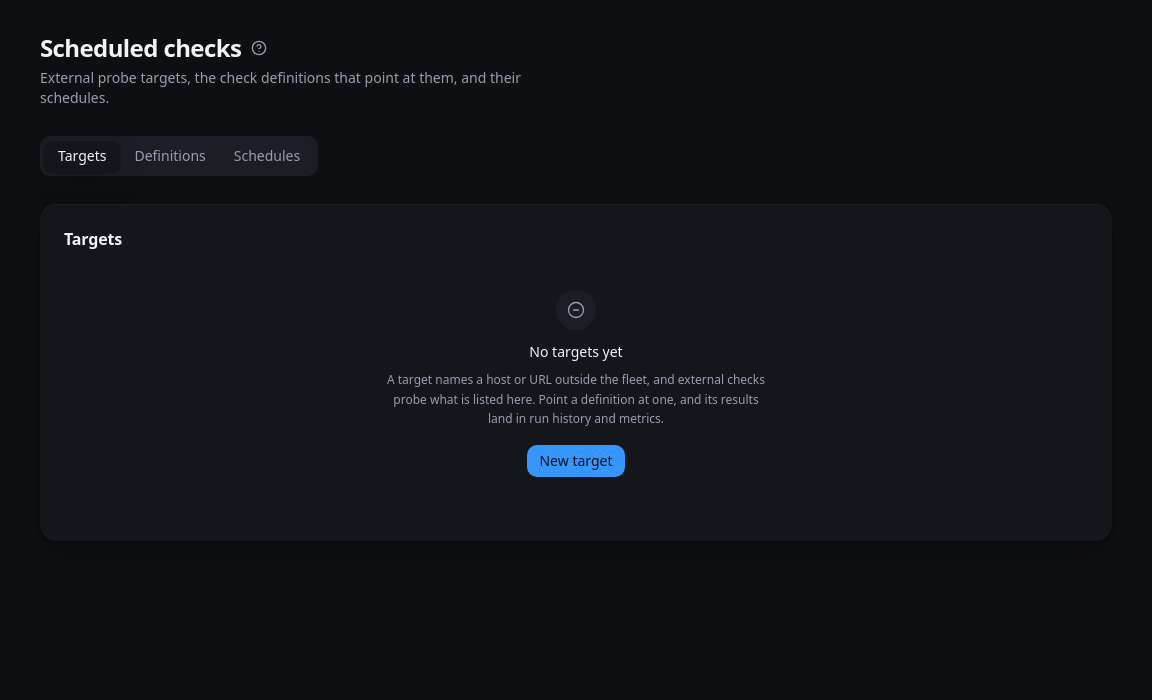
Test: TargetsPage — required fields are refused in the page's own words › refuses a target with no name without a request
Click the button "New target": (576, 461) [528,445,624,477]
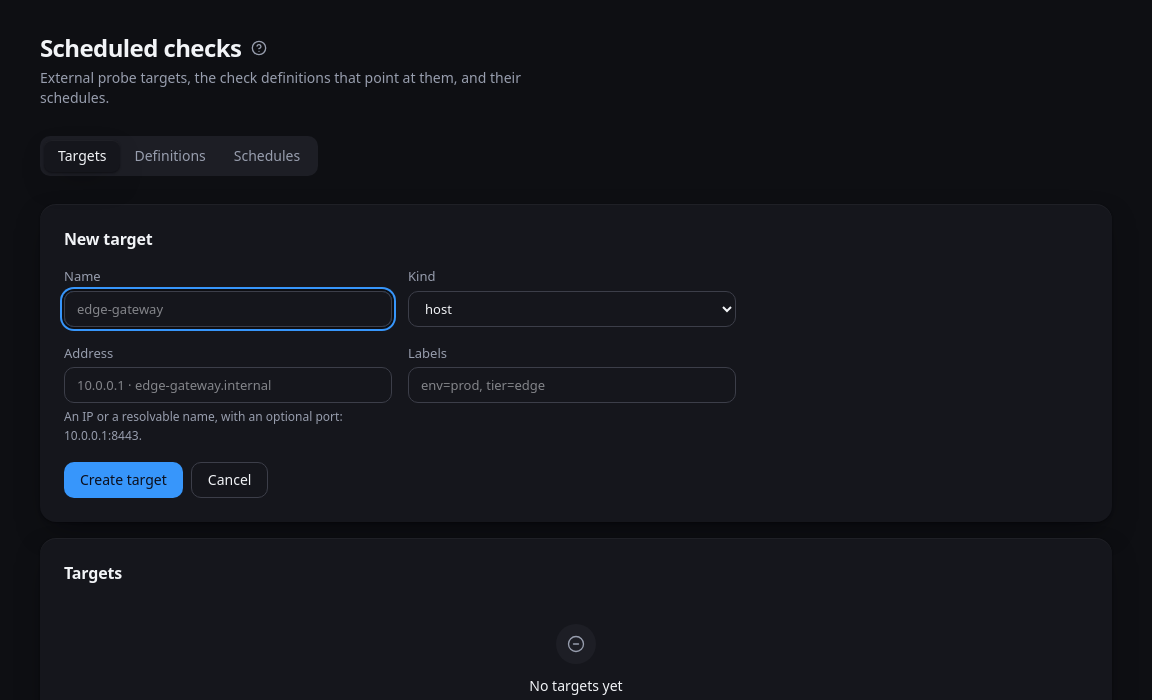
In the field labelled "Address": (228, 385) [64,367,392,403], type "10.0.0.9"
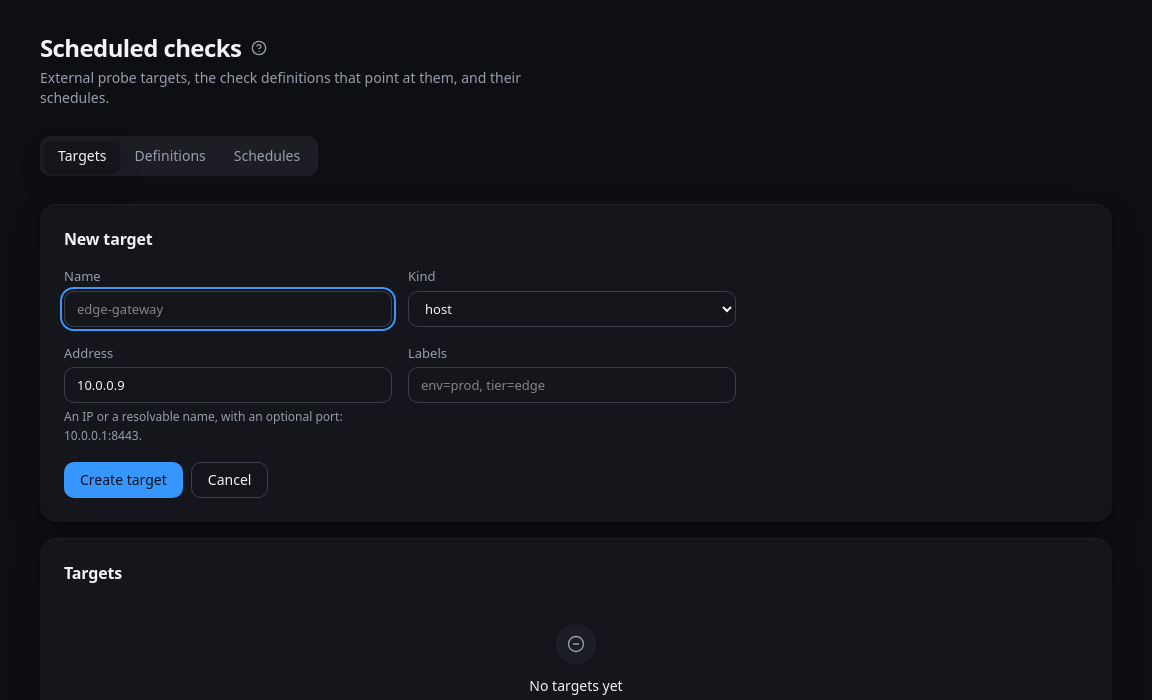
Click the button "Create target": (123, 480) [64,462,183,498]
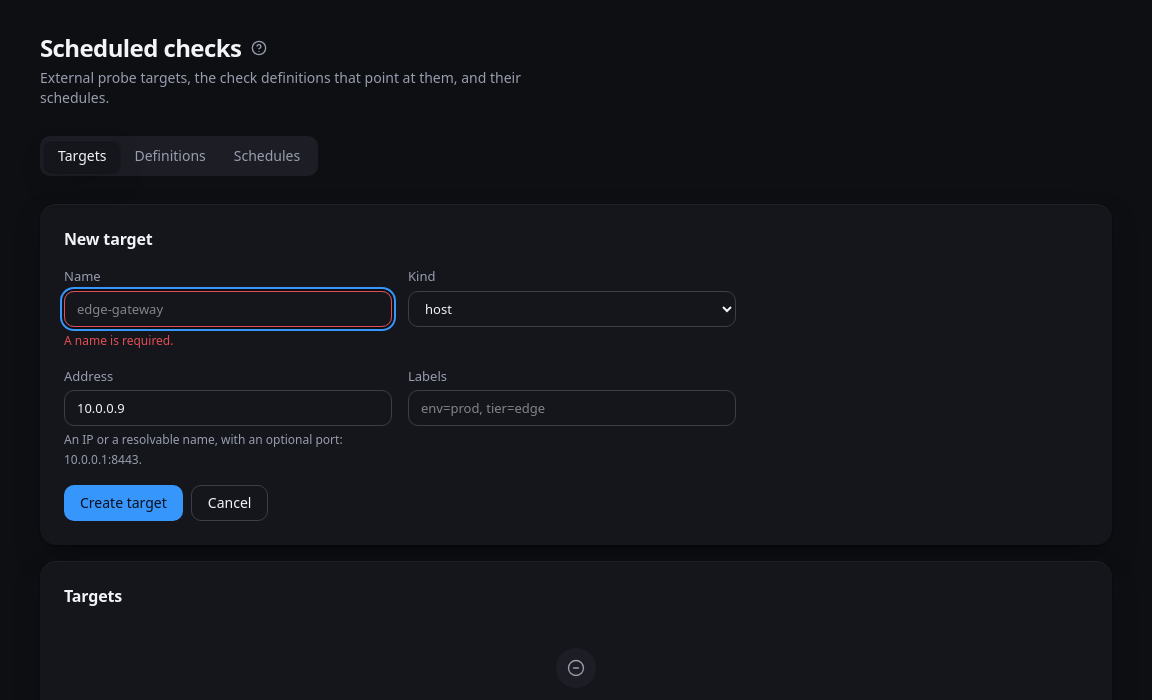
Now the text "A name is required." is shown, box [64,332,174,348]
